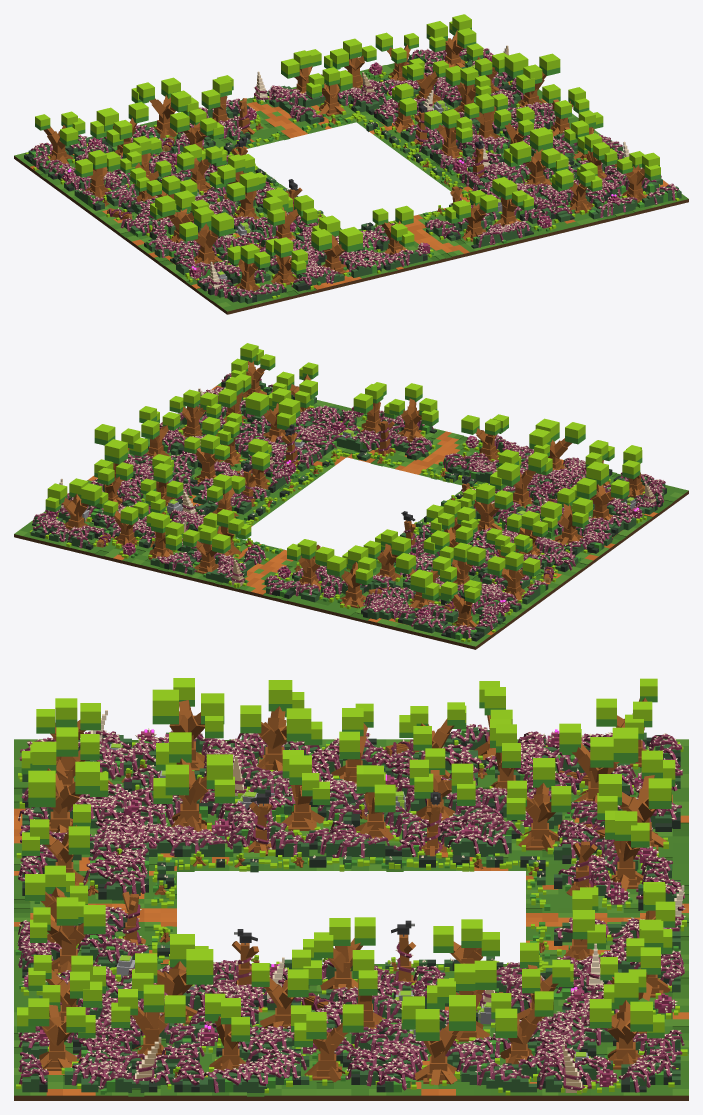
The model's file is thornwood_outer_arena_roblox.glb.
3 renders of one model, top to bottom at view 1: azimuth 30°, elevation 25°; view 2: azimuth 150°, elevation 25°; view 3: azimuth 270°, elevation 25°, orthographic. The views are drawn at different scales.
Visible parts, largest first — view 1: CanopyMesh (×40), Trunk (×13), Bramble_SW_a, Bramble_SE_a, Bramble_NE_a, Bramble_NW_a, Ground_SW, Ground_SE, Ground_NW, Bramble_SW_d, Bramble_SE_d, Bramble_SE_c (+17 smaller); view 2: CanopyMesh (×40), Trunk (×13), Bramble_NW_a, Bramble_NE_a, Bramble_SE_a, Bramble_SW_a, Ground_NW, Ground_NE, Ground_SW, Bramble_NW_b, Bramble_SE_b, Bramble_SW_d (+17 smaller); view 3: CanopyMesh (×40), Trunk (×29), Bramble_NE_a, Bramble_SE_a, Bramble_NW_a, Bramble_SW_a, Ground_NE, Ground_SE, Ground_NW, Bramble_SW_b, Ground_SW, Bramble_NW_c (+18 smaller).
Part boxes in pixels (x1=…): CanopyMesh (×40): x1=35, y1=14, x2=660, y2=274; Trunk (×13): x1=43, y1=30, x2=646, y2=291; Bramble_SW_a: x1=130, y1=188, x2=427, y2=303; Bramble_SE_a: x1=416, y1=126, x2=681, y2=248; Bramble_NE_a: x1=266, y1=50, x2=568, y2=158; Bramble_NW_a: x1=24, y1=100, x2=276, y2=228; Ground_SW: x1=120, y1=205, x2=457, y2=314; Ground_SE: x1=412, y1=124, x2=688, y2=255; Ground_NW: x1=14, y1=110, x2=290, y2=236; Bramble_SW_d: x1=148, y1=207, x2=403, y2=298; Bramble_SE_d: x1=431, y1=137, x2=656, y2=247; Bramble_SE_c: x1=426, y1=136, x2=644, y2=229; CanopyMesh (×40): x1=45, y1=343, x2=642, y2=602; Trunk (×13): x1=62, y1=398, x2=614, y2=627; Bramble_NW_a: x1=264, y1=526, x2=572, y2=641; Bramble_NE_a: x1=30, y1=454, x2=286, y2=583; Bramble_SE_a: x1=148, y1=375, x2=436, y2=495; Bramble_SW_a: x1=416, y1=438, x2=666, y2=565; Ground_NW: x1=261, y1=530, x2=582, y2=649; Ground_NE: x1=14, y1=474, x2=290, y2=593; Ground_SW: x1=419, y1=434, x2=688, y2=571; Bramble_NW_b: x1=369, y1=523, x2=529, y2=630; Bramble_SE_b: x1=160, y1=373, x2=431, y2=474; Bramble_SW_d: x1=465, y1=439, x2=663, y2=553; CanopyMesh (×40): x1=17, y1=678, x2=675, y2=1047; Trunk (×29): x1=39, y1=700, x2=666, y2=1085; Bramble_NE_a: x1=351, y1=921, x2=683, y2=1092; Bramble_SE_a: x1=19, y1=911, x2=351, y2=1092; Bramble_NW_a: x1=339, y1=727, x2=680, y2=910; Bramble_SW_a: x1=20, y1=732, x2=351, y2=900; Ground_NE: x1=351, y1=917, x2=688, y2=1100; Ground_SE: x1=14, y1=922, x2=351, y2=1100; Ground_NW: x1=351, y1=739, x2=688, y2=917; Bramble_SW_b: x1=44, y1=747, x2=361, y2=874; Ground_SW: x1=14, y1=739, x2=351, y2=917; Bramble_NW_c: x1=346, y1=724, x2=684, y2=899.
Size of the model in its own units: 150 by 16.29 by 120.
